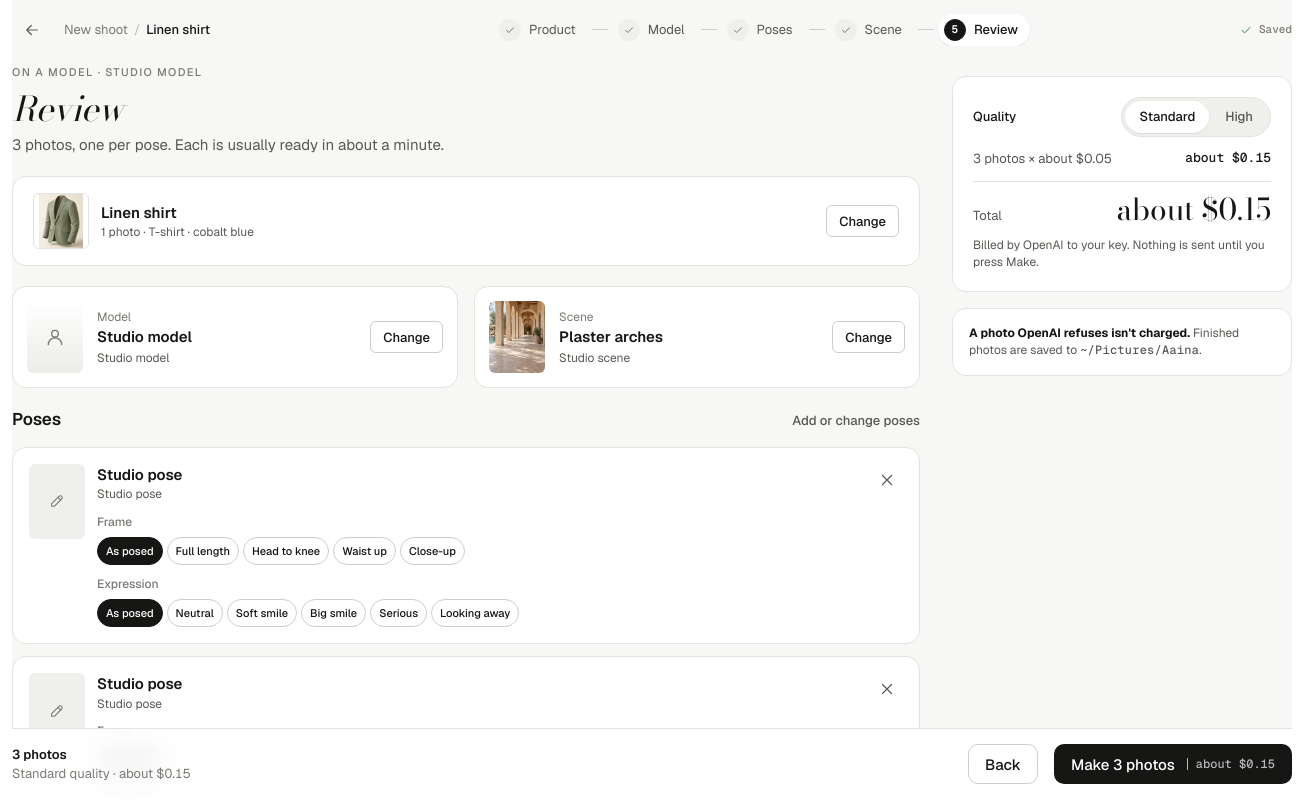
Create → Review › removing a pose lowers the count and the price, and the draft keeps it
Expected: the button "Make 3 photos about $0.15" is shown, [1054,744,1292,784]
Click the 1st button named "Remove pose" at {"x": 887, "y": 480}, box [871,464,903,496]
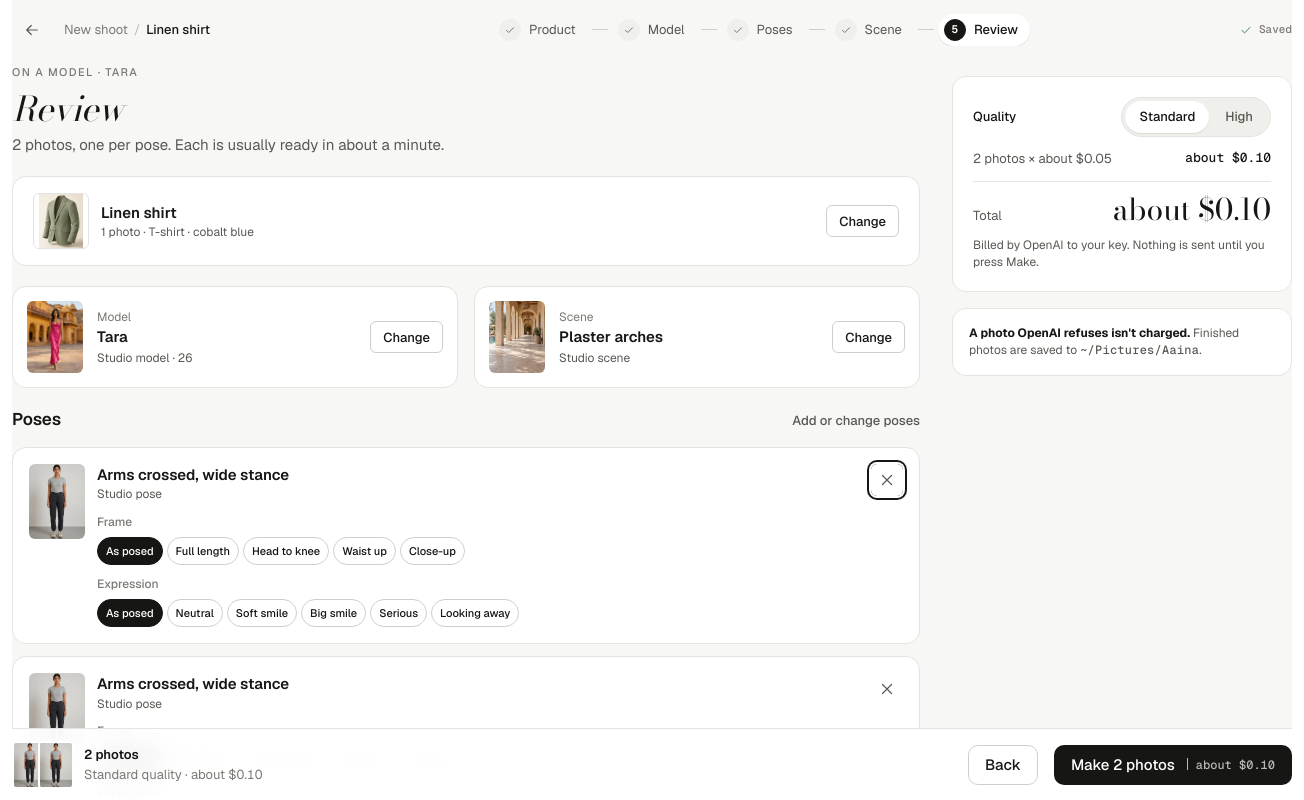
Now the button "Make 2 photos about $0.10" is shown, box [1054,744,1292,784]
